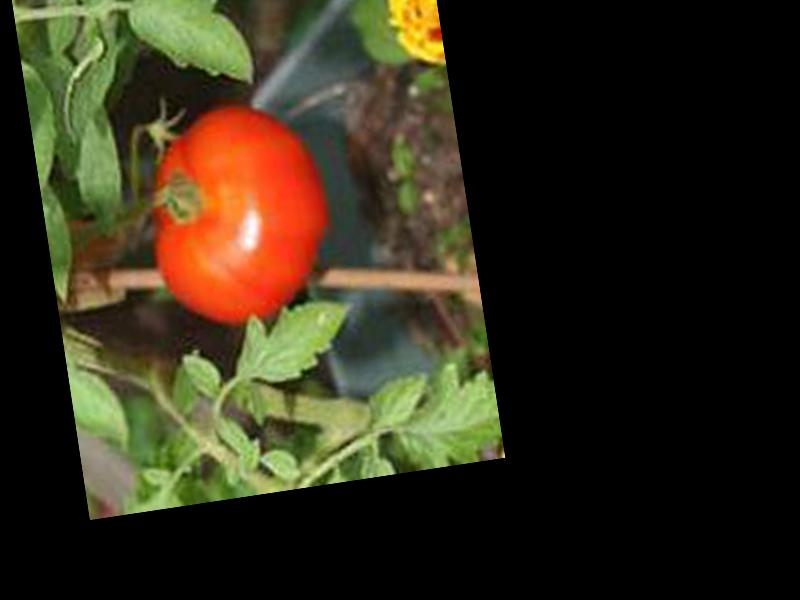Tomato: (133, 91, 340, 338)
